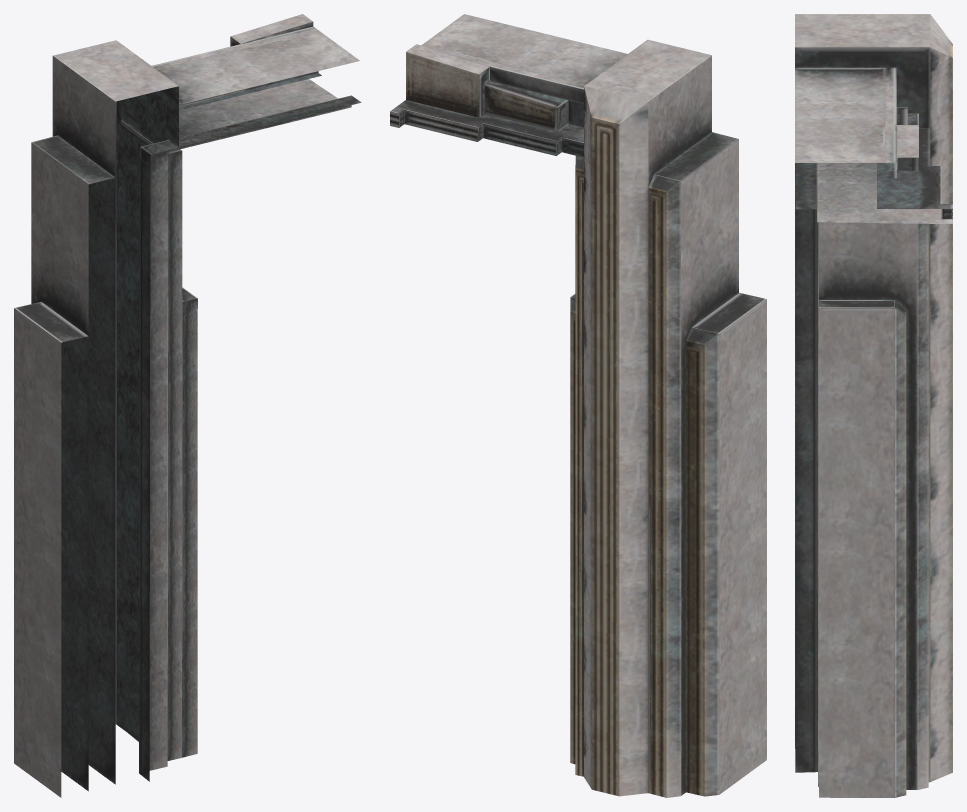
Rendered from door_frame_right.obj.
3 renders of one model, left to right at view 1: azimuth 30°, elevation 25°; view 2: azimuth 150°, elevation 25°; view 3: azimuth 270°, elevation 25°, orthographic. The views are drawn at different scales.
Parts seen in each view (by area): view 1: door_frame_right; view 2: door_frame_right; view 3: door_frame_right.
Boxes of the visible parts, box(x1,y1,x2,y2) form: door_frame_right: box(14, 14, 361, 797); door_frame_right: box(390, 14, 766, 797); door_frame_right: box(795, 14, 952, 797).
Bounding box in the file's own units: 133 × 290 × 56.
Materials: 1 (1 with a texture image).
